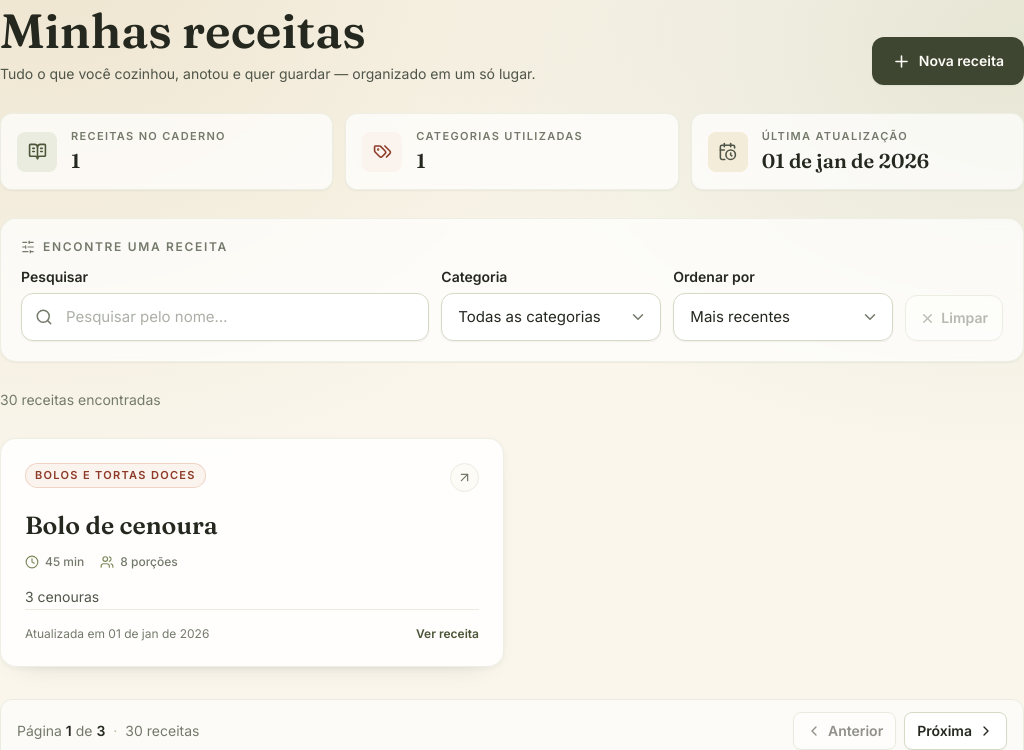
Test: RecipesPage › navigates to the next page via pagination
The width and height of the screenshot is (1024, 750).
Click the button with aria-label "Próxima página": click(956, 731) top-left (904, 712), bottom-right (1007, 749)
(page scrolled)
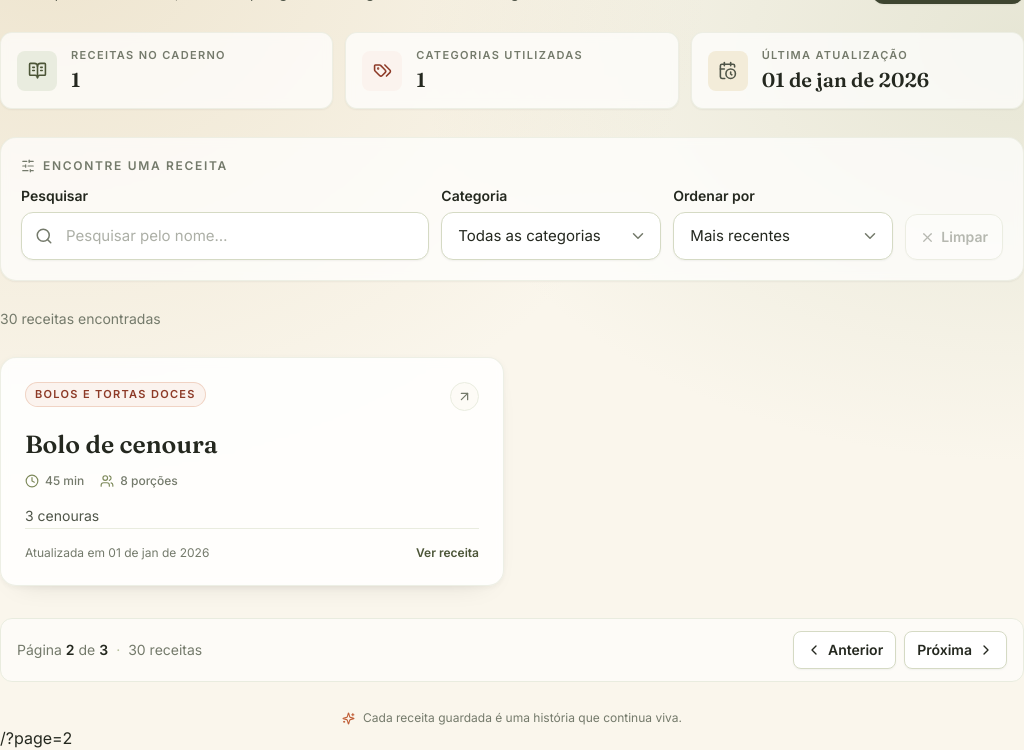
Expected: the text with test id "location" reads "/?page=2", top-left (0, 728), bottom-right (72, 748)
